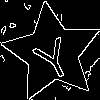Y: (27, 28, 77, 83)
